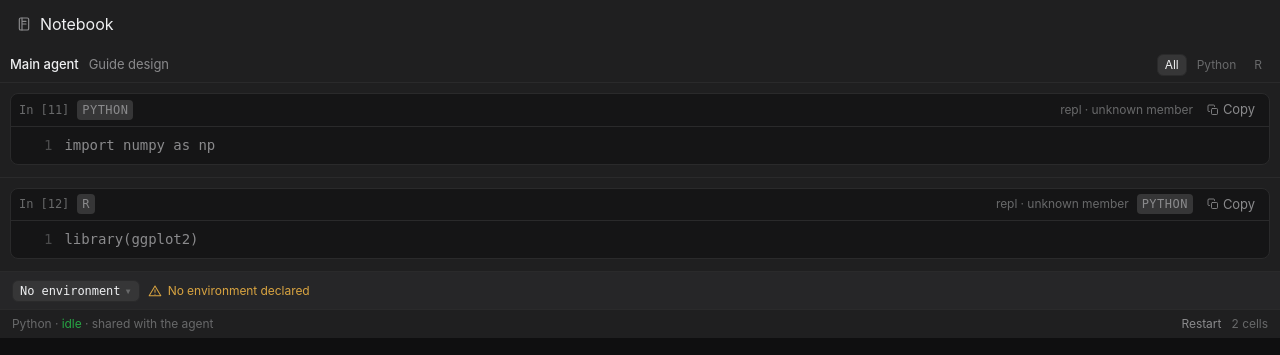
it: keeps a language whose kernel has gone reachable, and says nothing holds it
The image size is (1280, 355).
Step 1. Click the radio button labelled "R" → (1258, 65), box [1246,54,1270,76]
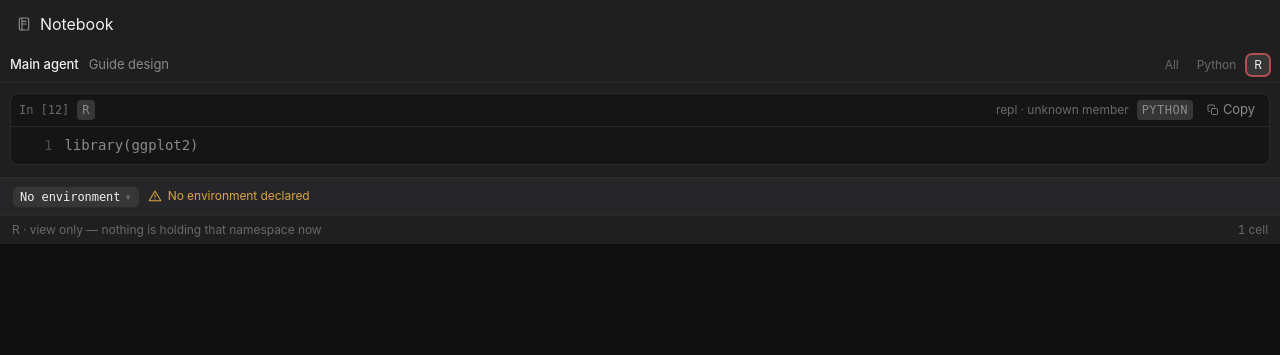
Now the element with test id "notebook-status" shows "R", box [0,214,1279,244]
Now the element with test id "notebook-status" shows "view only — nothing is holding that namespace now", box [20,222,322,236]
Now the button "Restart" is gone
